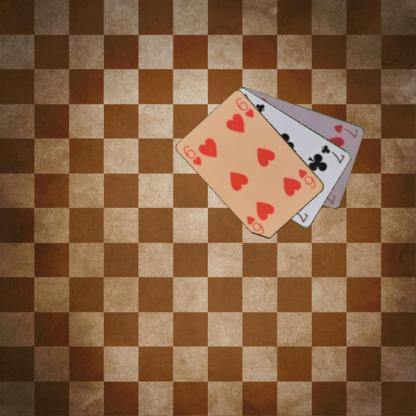6h: (296, 166, 318, 190), (181, 142, 203, 166)
7c: (319, 142, 346, 165)
7h: (330, 122, 360, 140)
